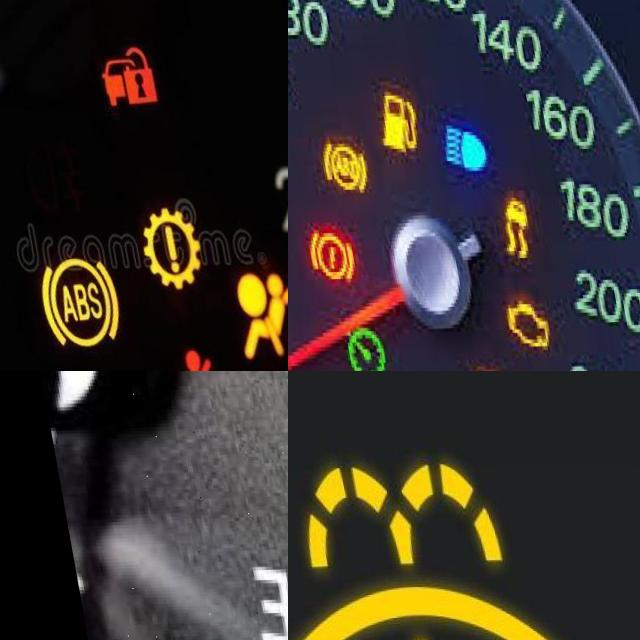Washer Fluid: (288, 463, 593, 640)
